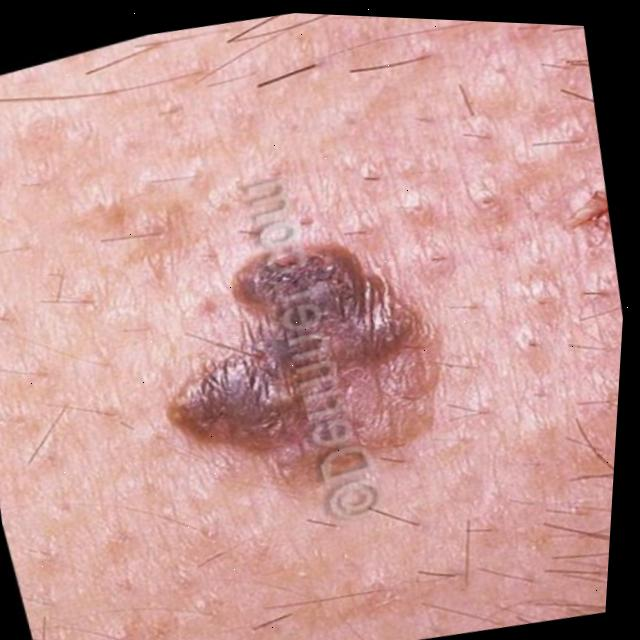Eczema: (102, 145, 511, 518)
